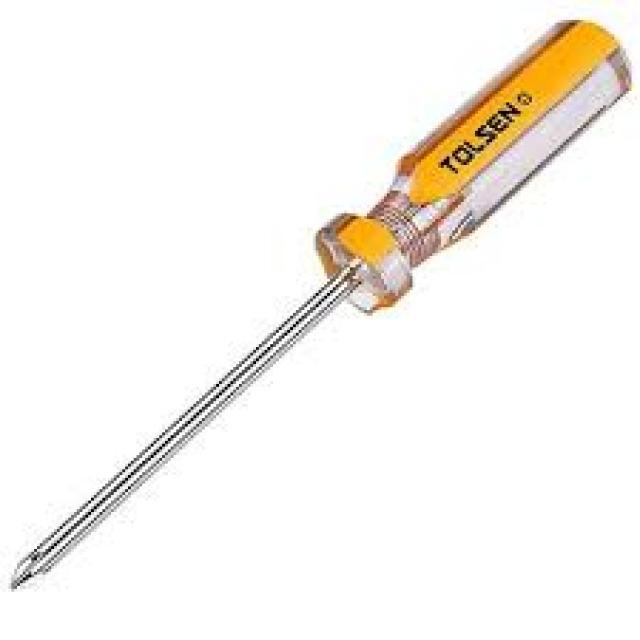screwdriver: (1, 19, 633, 594)
